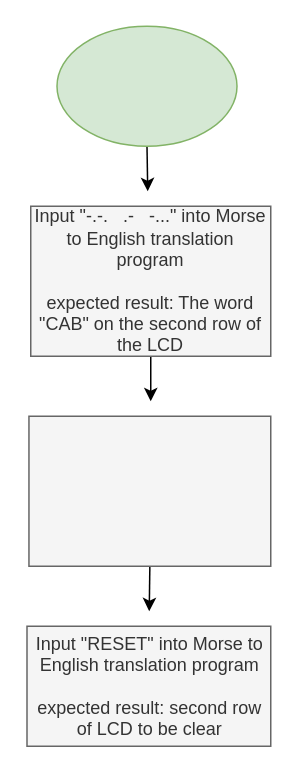
The diagram is 297 pixels wide and 773 high, and some of its shapes have lost their labels. The shapes that lost their labels are listed below. From the top down, each one's centre as x and y in pixels, then its label:
the point at 146,85: START: test of Morse to English program
the point at 149,490: Input "DELETE" into Morse to English translation program expected result: "CA"
